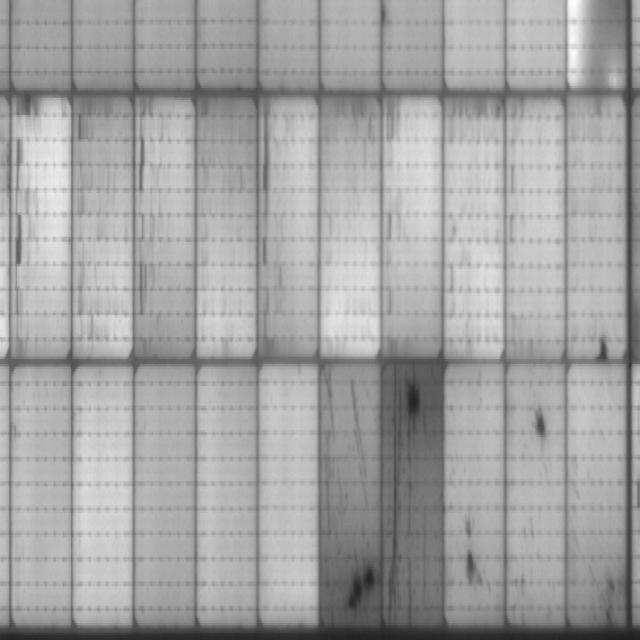CRACK: (384, 369, 433, 618), (335, 481, 376, 640)
